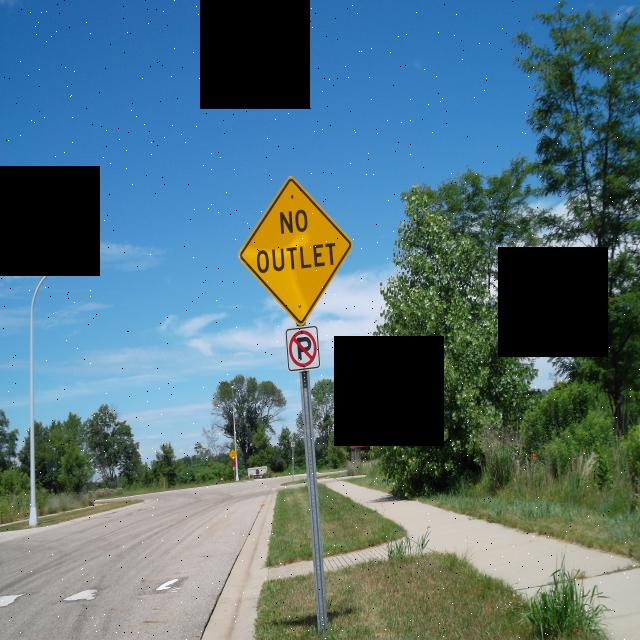regulatory: (286, 326, 320, 373)
warning: (231, 177, 355, 324)
